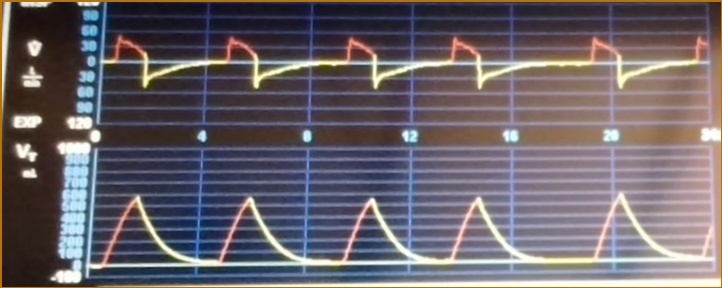Normal Flow: (105, 17, 708, 114)
Normal Volume: (94, 179, 711, 272)
